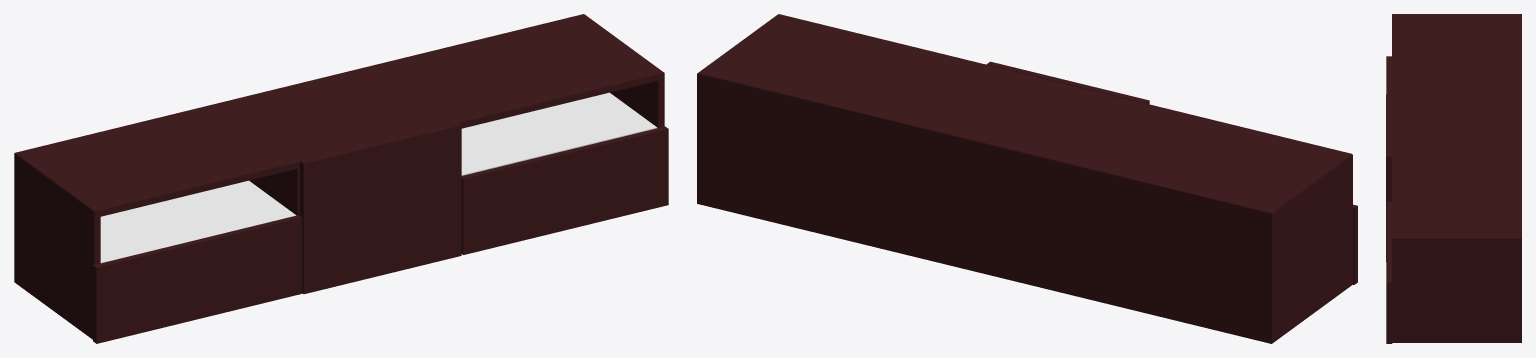
3 views of the same model, side by side, from view 1: azimuth 30°, elevation 25°; view 2: azimuth 150°, elevation 25°; view 3: azimuth 270°, elevation 25° (orthographic). The views are drawn at different scales.
Visible parts, largest first — view 1: Cube.005, Cube.009, Cube.011, Cube.010, Cube.008, Cube.003, Cube.002, Cube.006; view 2: Cube.001, Cube.005, Cube.003, Cube.009; view 3: Cube.005, Cube.002, Cube.010, Cube.009, Cube.011, Cube.001.
Part boxes in pixels (bbox=[...]): Cube.005: bbox=[15, 14, 663, 217]; Cube.009: bbox=[300, 122, 461, 294]; Cube.011: bbox=[93, 215, 301, 343]; Cube.010: bbox=[461, 126, 668, 254]; Cube.008: bbox=[100, 92, 657, 263]; Cube.003: bbox=[14, 153, 100, 339]; Cube.002: bbox=[584, 14, 664, 127]; Cube.006: bbox=[249, 168, 299, 215]; Cube.001: bbox=[697, 74, 1270, 343]; Cube.005: bbox=[698, 14, 1352, 213]; Cube.003: bbox=[1266, 154, 1352, 343]; Cube.009: bbox=[986, 61, 1149, 104]; Cube.005: bbox=[1392, 14, 1521, 238]; Cube.002: bbox=[1392, 236, 1521, 342]; Cube.010: bbox=[1386, 201, 1392, 343]; Cube.009: bbox=[1386, 94, 1391, 261]; Cube.011: bbox=[1386, 56, 1391, 94]; Cube.001: bbox=[1521, 17, 1521, 235].
Bounding box in the file's own units: 1.81 × 0.395 × 0.461.
